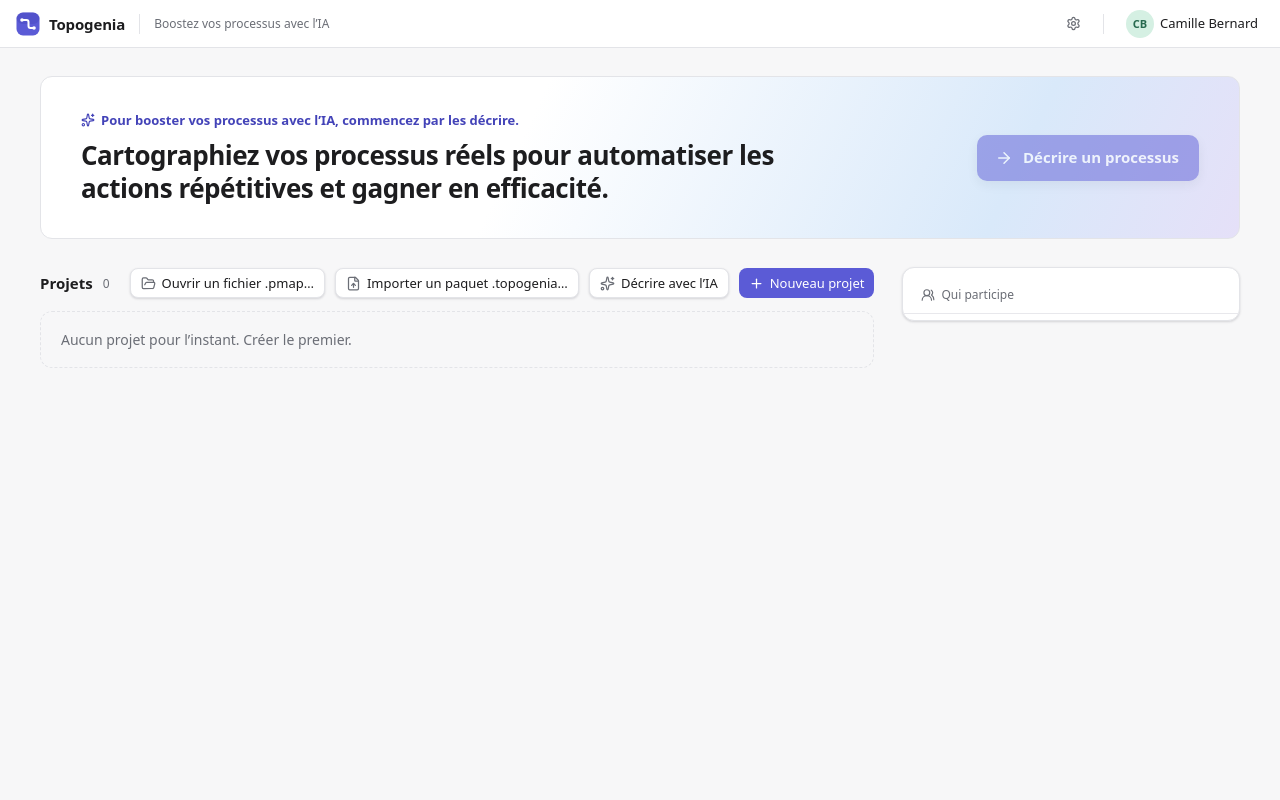
« Décrire un processus » from the home page › opens the panel for an administrator, sends a project yet to create, and its proposal opens as a new project to confirm
Step 1. Click the button with test id "home-describe-ai" → (659, 283), box top-left (589, 268), bottom-right (729, 298)
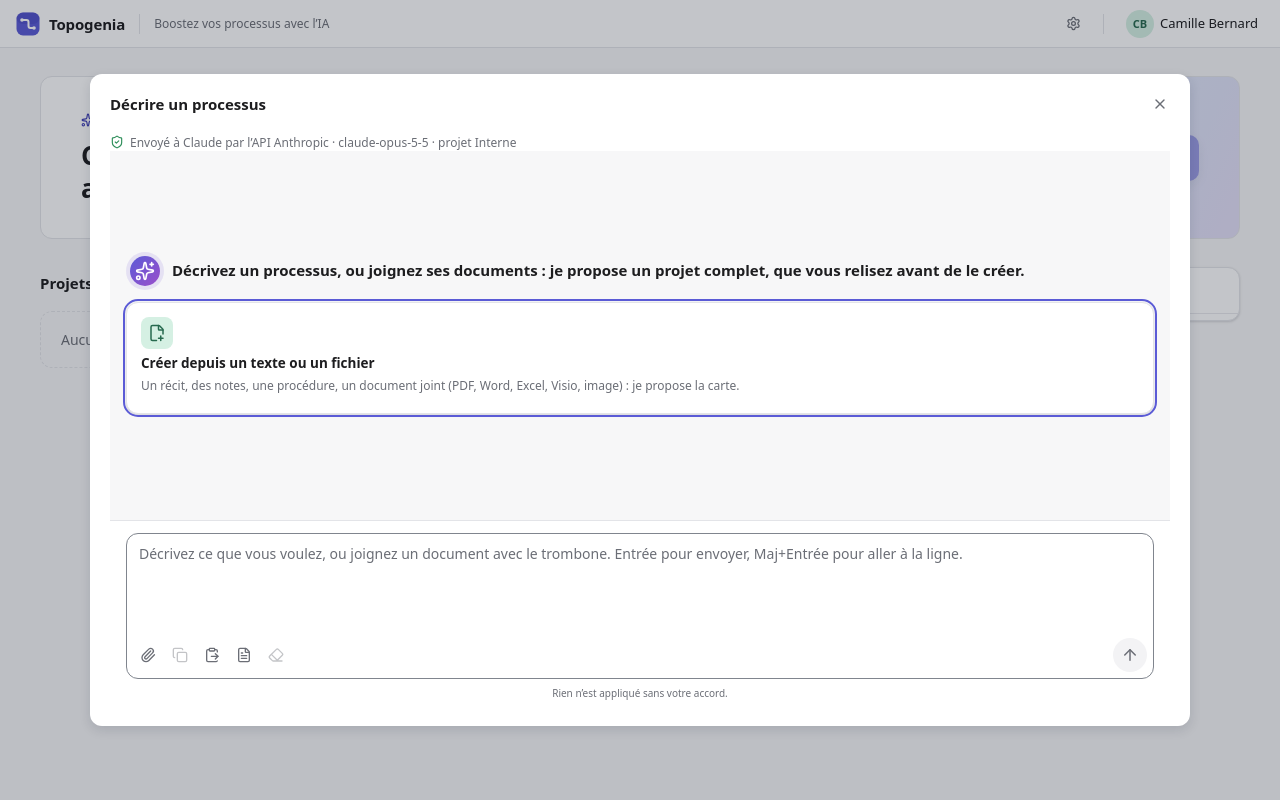
Now the element with test id "assistant-destination" reads "Envoyé à Claude par l’API Anthropic · claude-opus-5-5 · projet Interne", box top-left (130, 134), bottom-right (516, 151)
Step 2. Replace the text in the text box with test id "assistant-field" with "Le demandeur saisit sa demande, le responsable la valide." → (640, 584), box top-left (127, 534), bottom-right (1153, 634)
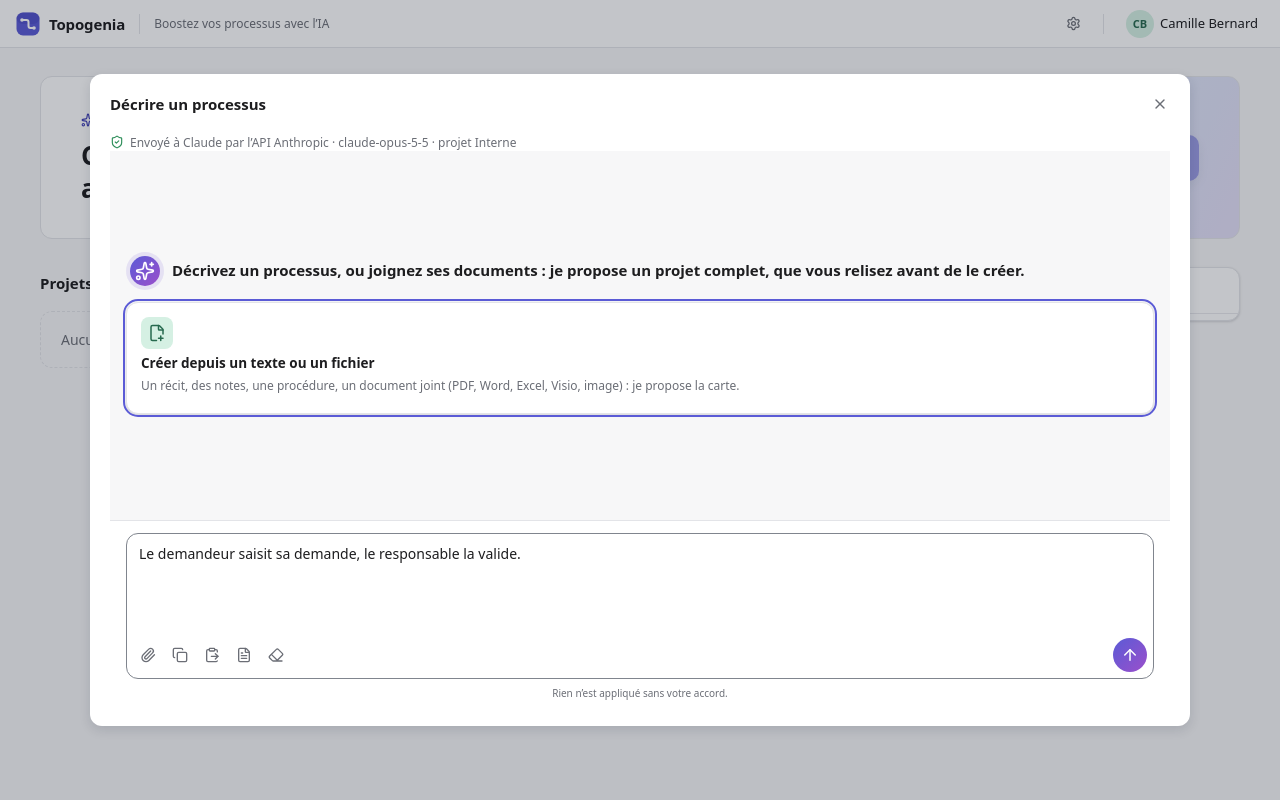
Step 3. Click the button with test id "assistant-send" → (1130, 655), box top-left (1113, 638), bottom-right (1147, 672)
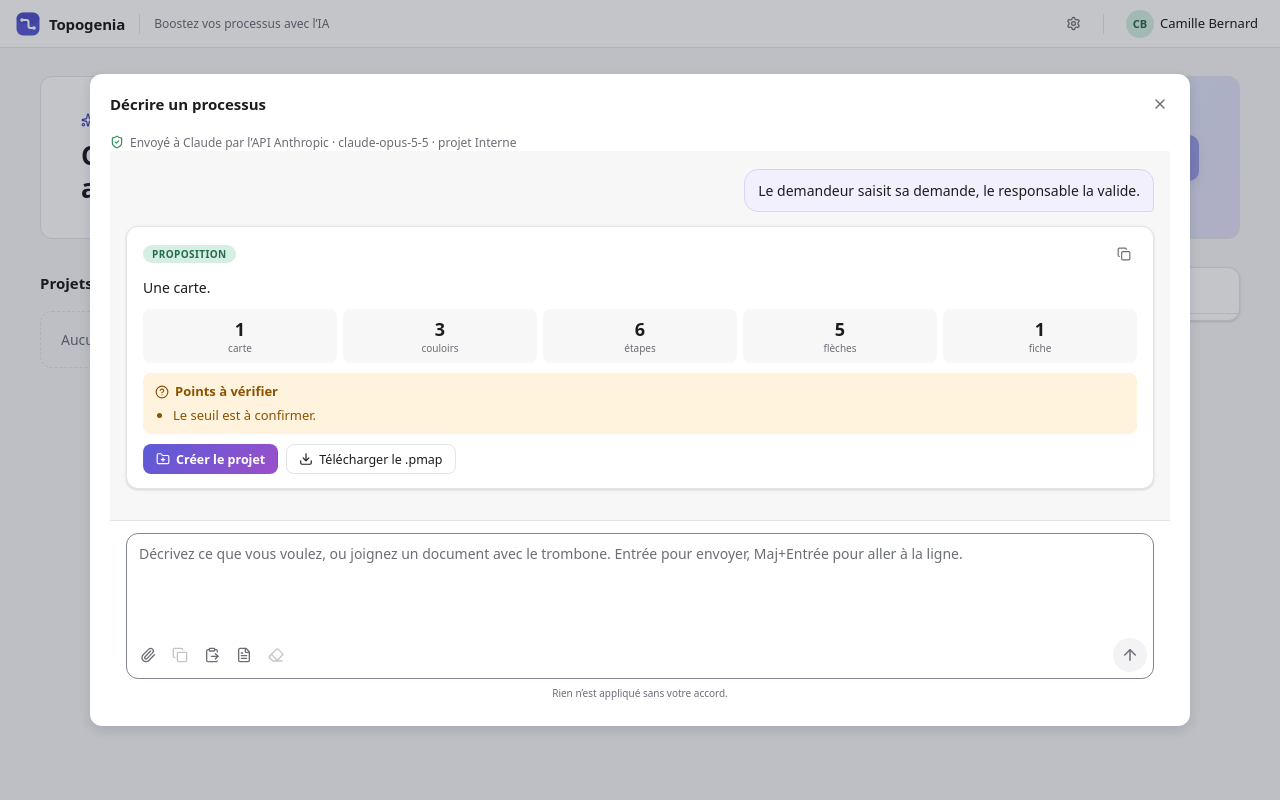
Now the element with test id "assistant-proposal" shows "Le seuil est à confirmer.", box top-left (173, 406), bottom-right (316, 424)
Step 4. Click the button with test id "assistant-create-project" → (211, 459), box top-left (143, 444), bottom-right (278, 474)
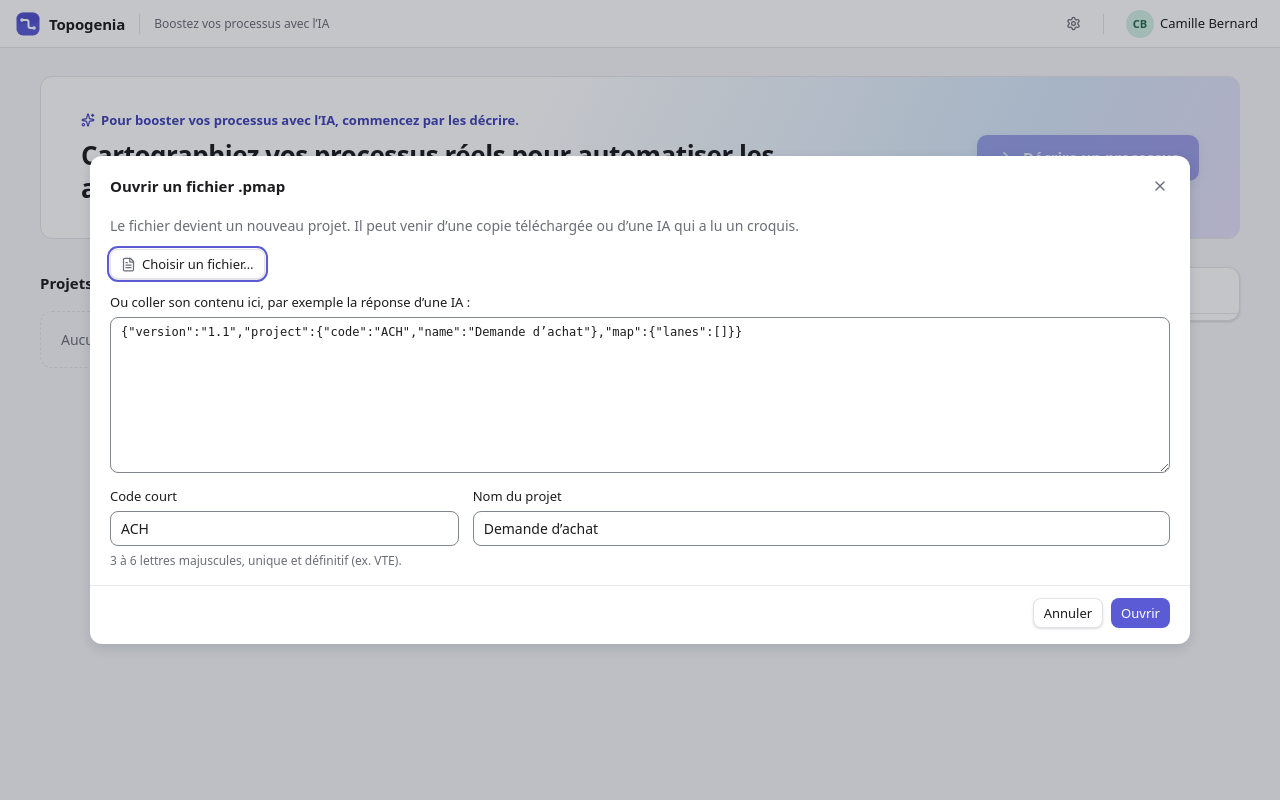
Now the dialog with test id "open-pmap" is shown, box top-left (90, 156), bottom-right (1190, 644)
Now the text box with test id "open-pmap-content" holds "{\"version\":\"1.1\",\"project\":{\"code\":\"ACH\",\"name\":\"Demande d’achat\"},\"map\":{\"lanes\":[]}}", box top-left (110, 317), bottom-right (1170, 473)
